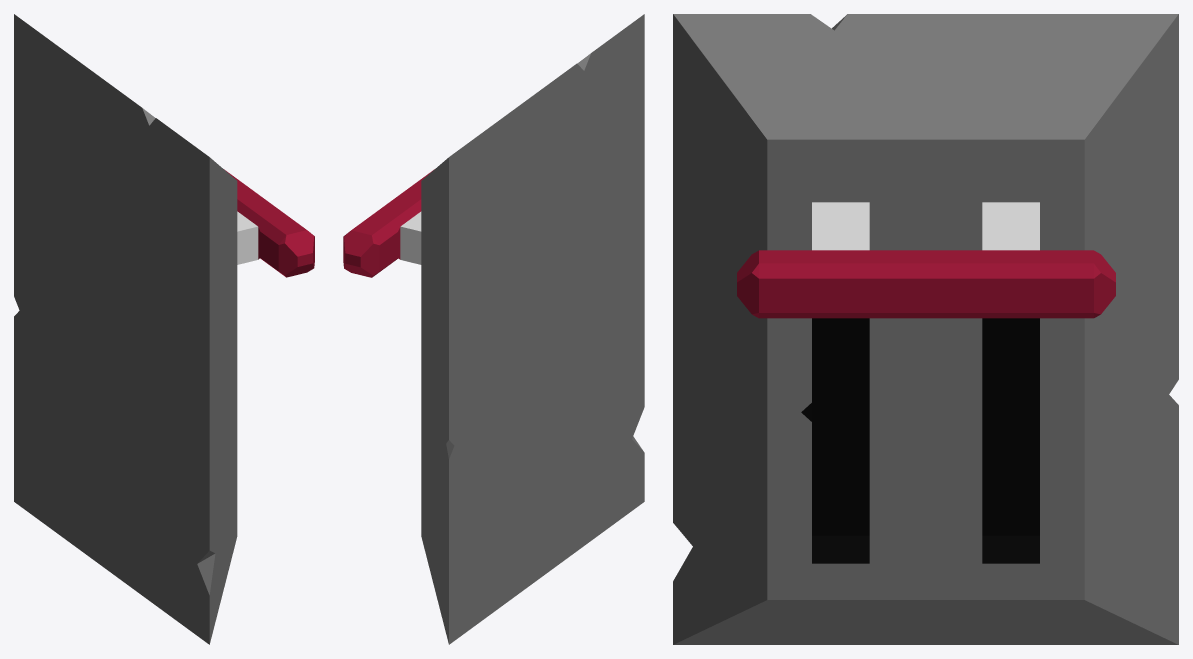
File: lever.fbx
3 renders of one model, left to right at view 1: azimuth 30°, elevation 25°; view 2: azimuth 150°, elevation 25°; view 3: azimuth 270°, elevation 25°, orthographic. The views are drawn at different scales.
Visible parts, largest first — view 1: Cube, Cube.001; view 2: Cube, Cube.001; view 3: Cube, Cube.001.
Part boxes in pixels (bbox=[...]): Cube: bbox=[14, 14, 237, 644]; Cube.001: bbox=[224, 169, 314, 277]; Cube: bbox=[421, 14, 644, 644]; Cube.001: bbox=[343, 169, 434, 277]; Cube: bbox=[673, 14, 1178, 644]; Cube.001: bbox=[737, 202, 1115, 318].
Size of the model in its own units: 56.82 by 191 by 139.
